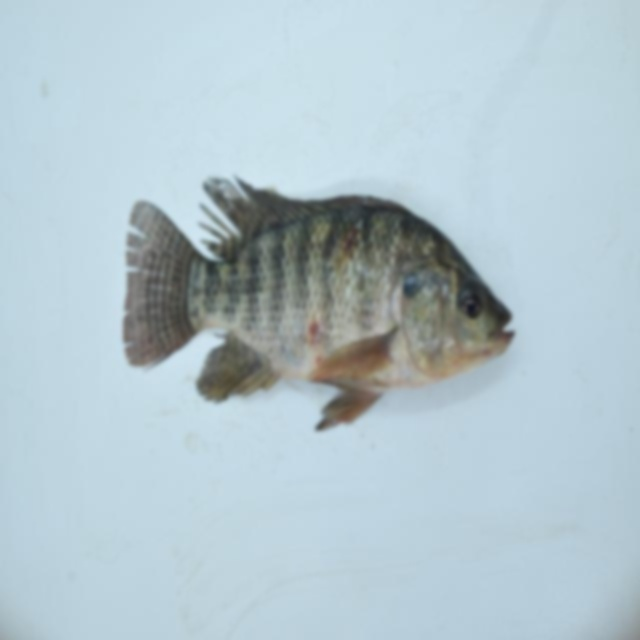Columnaris Disease: (112, 171, 539, 456)
